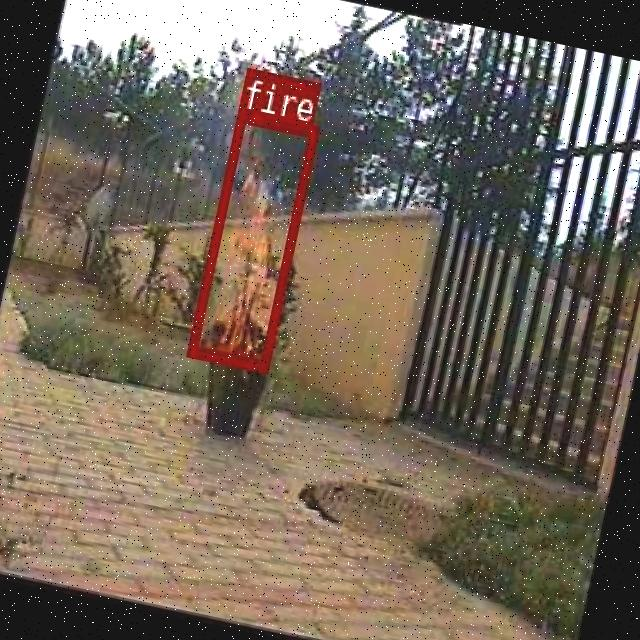fire: (185, 107, 318, 369)
